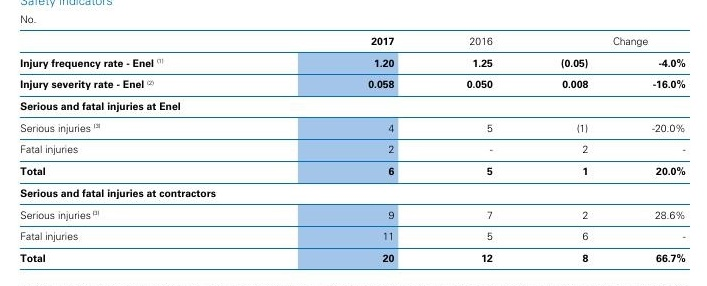table: (0, 0, 707, 286)
